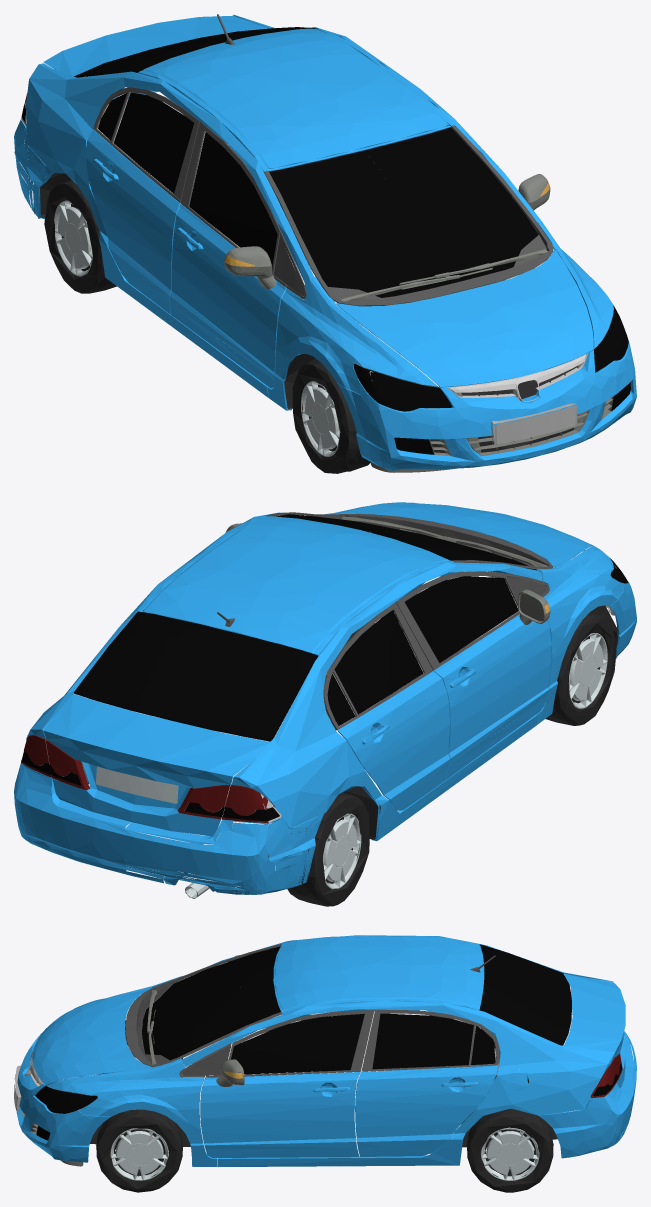
Rendered from car_blue.gltf.
3 views of the same model, one above another, from view 1: azimuth 30°, elevation 25°; view 2: azimuth 150°, elevation 25°; view 3: azimuth 270°, elevation 25° (orthographic). The views are drawn at different scales.
Parts seen in each view (by area): view 1: Obj_66, Obj_67, Obj_65, Obj_63, Obj_58, Obj_64, Obj_000022, Obj_32, Obj_47, Obj_45, Obj_28, Obj_000020 (+4 smaller); view 2: Obj_66, Obj_65, Obj_67, Obj_58, Obj_64, Obj_56, Obj_47, Obj_32, Obj_63, Obj_50, Obj_42, Obj_45 (+1 smaller); view 3: Obj_66, Obj_67, Obj_65, Obj_44, Obj_29, Obj_64, Obj_57, Obj_63, Obj_58, Obj_000022, Obj_36, Obj_28 (+2 smaller).
Part boxes in pixels (x1=…): Obj_66: x1=14, y1=28, x2=636, y2=470; Obj_67: x1=74, y1=27, x2=538, y2=297; Obj_65: x1=14, y1=14, x2=541, y2=397; Obj_63: x1=264, y1=125, x2=552, y2=306; Obj_58: x1=54, y1=200, x2=340, y2=456; Obj_64: x1=93, y1=87, x2=531, y2=298; Obj_000022: x1=353, y1=305, x2=628, y2=411; Obj_32: x1=292, y1=360, x2=370, y2=473; Obj_47: x1=44, y1=180, x2=116, y2=293; Obj_45: x1=40, y1=168, x2=608, y2=453; Obj_28: x1=224, y1=174, x2=550, y2=289; Obj_000020: x1=491, y1=403, x2=577, y2=444; Obj_66: x1=14, y1=502, x2=636, y2=894; Obj_65: x1=26, y1=512, x2=541, y2=894; Obj_67: x1=73, y1=514, x2=536, y2=741; Obj_58: x1=323, y1=633, x2=607, y2=888; Obj_64: x1=323, y1=571, x2=549, y2=730; Obj_56: x1=21, y1=735, x2=279, y2=822; Obj_47: x1=284, y1=792, x2=369, y2=906; Obj_32: x1=545, y1=612, x2=616, y2=725; Obj_63: x1=265, y1=512, x2=553, y2=569; Obj_50: x1=95, y1=766, x2=178, y2=803; Obj_42: x1=21, y1=751, x2=279, y2=820; Obj_45: x1=181, y1=595, x2=620, y2=877; Obj_66: x1=16, y1=935, x2=636, y2=1166; Obj_67: x1=142, y1=944, x2=571, y2=1074; Obj_65: x1=182, y1=935, x2=634, y2=1166; Obj_44: x1=466, y1=1108, x2=553, y2=1192; Obj_29: x1=96, y1=1109, x2=182, y2=1192; Obj_64: x1=179, y1=1010, x2=499, y2=1077; Obj_57: x1=110, y1=1127, x2=539, y2=1180; Obj_63: x1=125, y1=943, x2=281, y2=1066; Obj_58: x1=118, y1=1128, x2=168, y2=1180; Obj_000022: x1=35, y1=1086, x2=97, y2=1113; Obj_36: x1=182, y1=1046, x2=230, y2=1075; Obj_28: x1=216, y1=955, x2=244, y2=1086.
Bounding box in the file's own units: 2.03 × 1.51 × 4.52.
